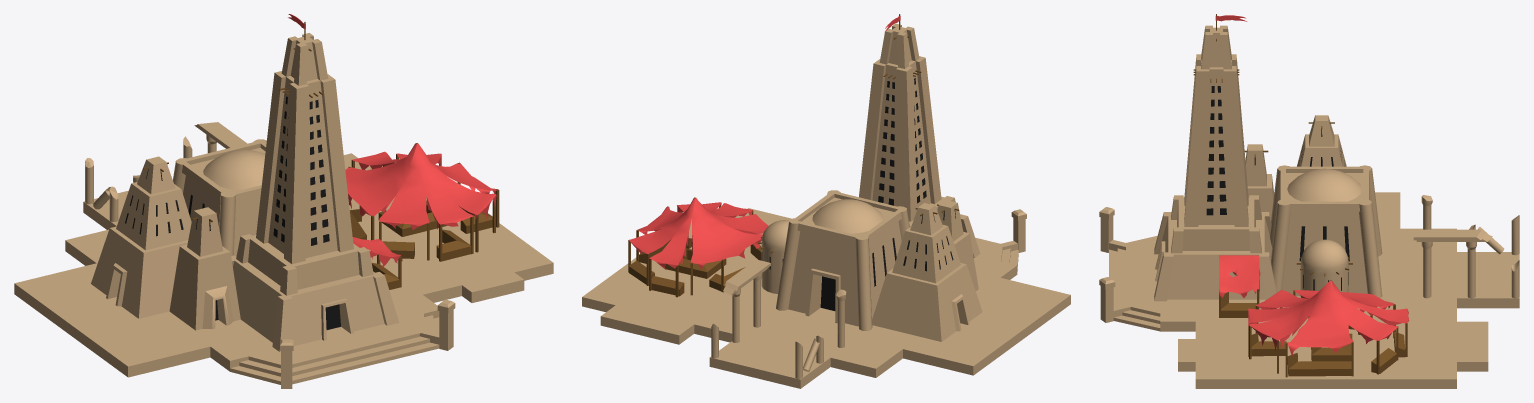
File: kartag-library.glb
3 renders of one model, left to right at view 1: azimuth 30°, elevation 25°; view 2: azimuth 150°, elevation 25°; view 3: azimuth 270°, elevation 25°, orthographic. The views are drawn at different scales.
Visible parts, largest first — view 1: pCube71; view 2: pCube71; view 3: pCube71.
Boxes of the visible parts, x1,y1,x2,y2 form: pCube71: [14, 14, 553, 388]; pCube71: [582, 14, 1070, 388]; pCube71: [1099, 14, 1519, 388].
Size of the model in its own units: 18.8 by 12.71 by 17.89.
Materials: 1 (1 with a texture image).
